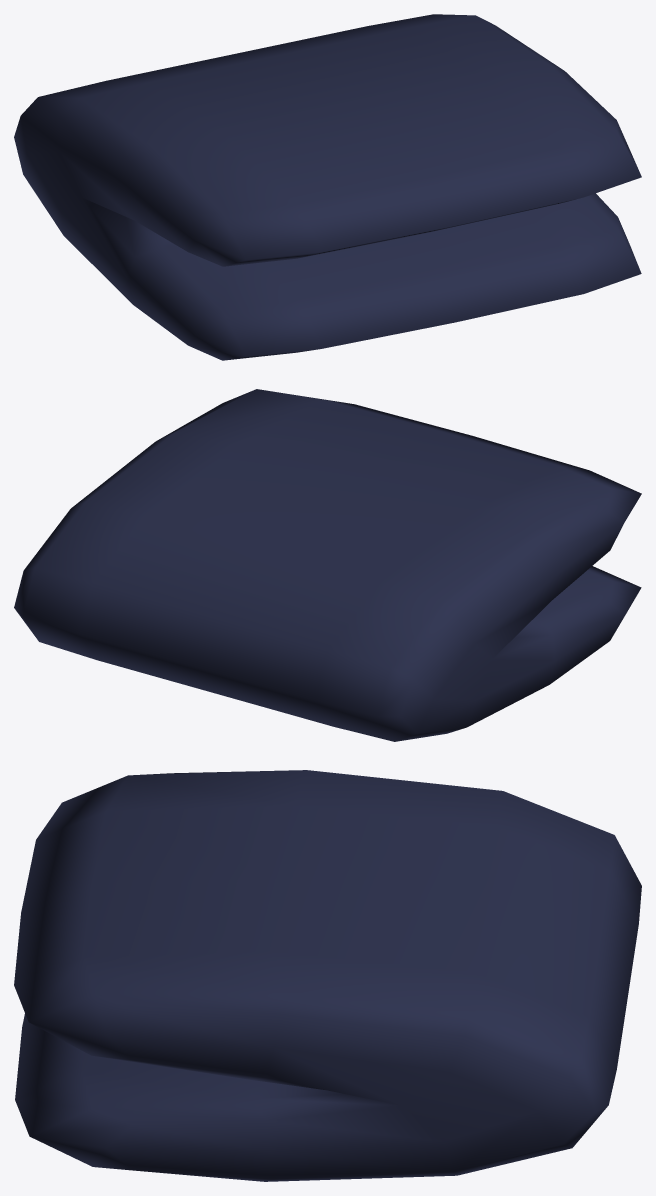
File: шмотка.fbx
The picture shows the model from 3 angles, top to bottom: view 1: azimuth 30°, elevation 25°; view 2: azimuth 150°, elevation 25°; view 3: azimuth 270°, elevation 25°; orthographic projection. The views are drawn at different scales.
Parts seen in each view (by area): view 1: Cube.026; view 2: Cube.026; view 3: Cube.026.
Part boxes in pixels (box(x1,y1,x2,y2)): Cube.026: box(14, 14, 641, 360); Cube.026: box(14, 389, 641, 741); Cube.026: box(14, 770, 641, 1181).
Size of the model in its own units: 128 by 45.8 by 133.
